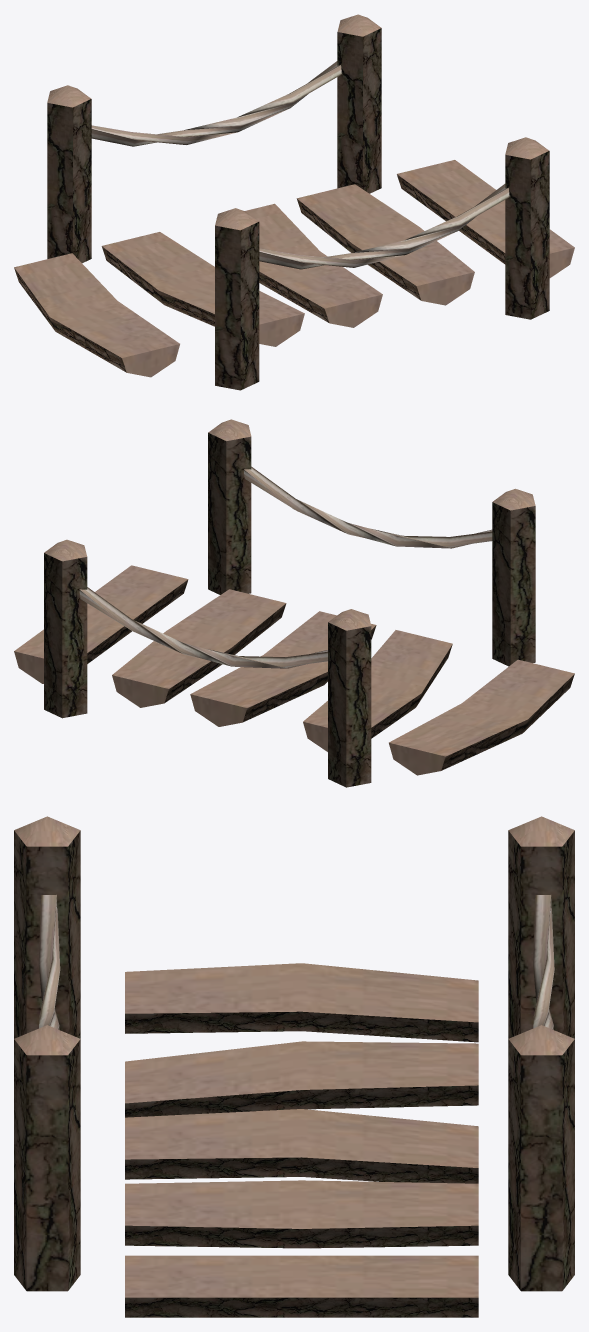
Rendered from love-death-bridge-fragment-art.glb.
3 views of the same model, one above another, from view 1: azimuth 30°, elevation 25°; view 2: azimuth 150°, elevation 25°; view 3: azimuth 270°, elevation 25° (orthographic). The views are drawn at different scales.
Parts seen in each view (by area): view 1: LoveDeath_Bridge_Fragment_Art; view 2: LoveDeath_Bridge_Fragment_Art; view 3: LoveDeath_Bridge_Fragment_Art.
Part boxes in pixels (x1=…): LoveDeath_Bridge_Fragment_Art: x1=14, y1=14, x2=574, y2=390; LoveDeath_Bridge_Fragment_Art: x1=14, y1=419, x2=574, y2=787; LoveDeath_Bridge_Fragment_Art: x1=14, y1=816, x2=574, y2=1317.
Bounding box in the file's own units: 3.15 × 1.13 × 2.23.
Materials: 3 (3 with a texture image).
